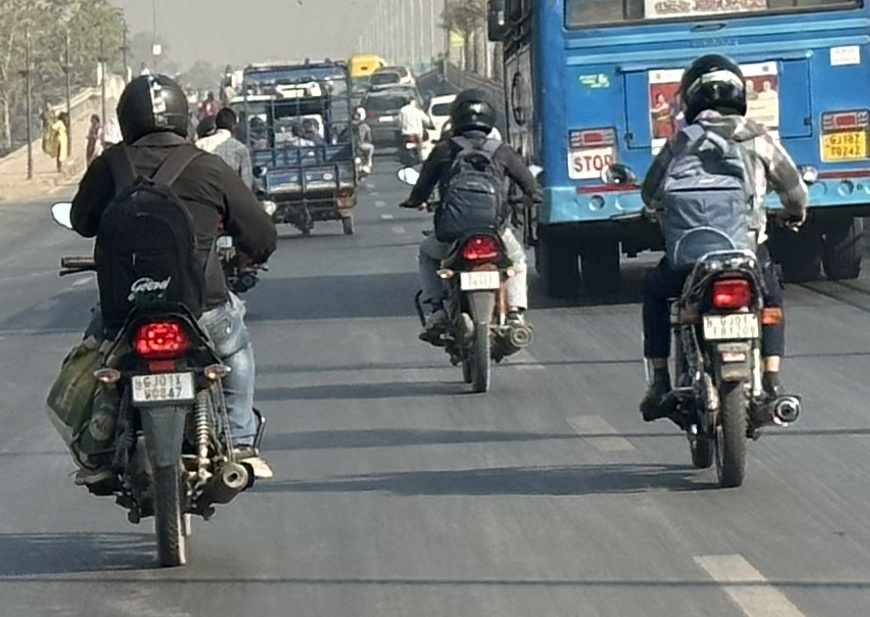BikeWithRider: (36, 64, 283, 575), (601, 47, 824, 495), (391, 81, 550, 398)
Helmet: (108, 65, 200, 151), (671, 47, 756, 128), (442, 83, 503, 142)
